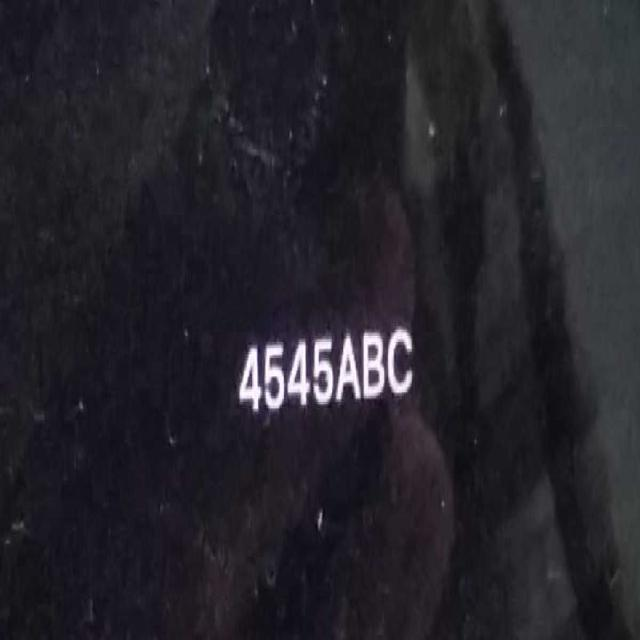license_plate: (232, 320, 420, 434)
